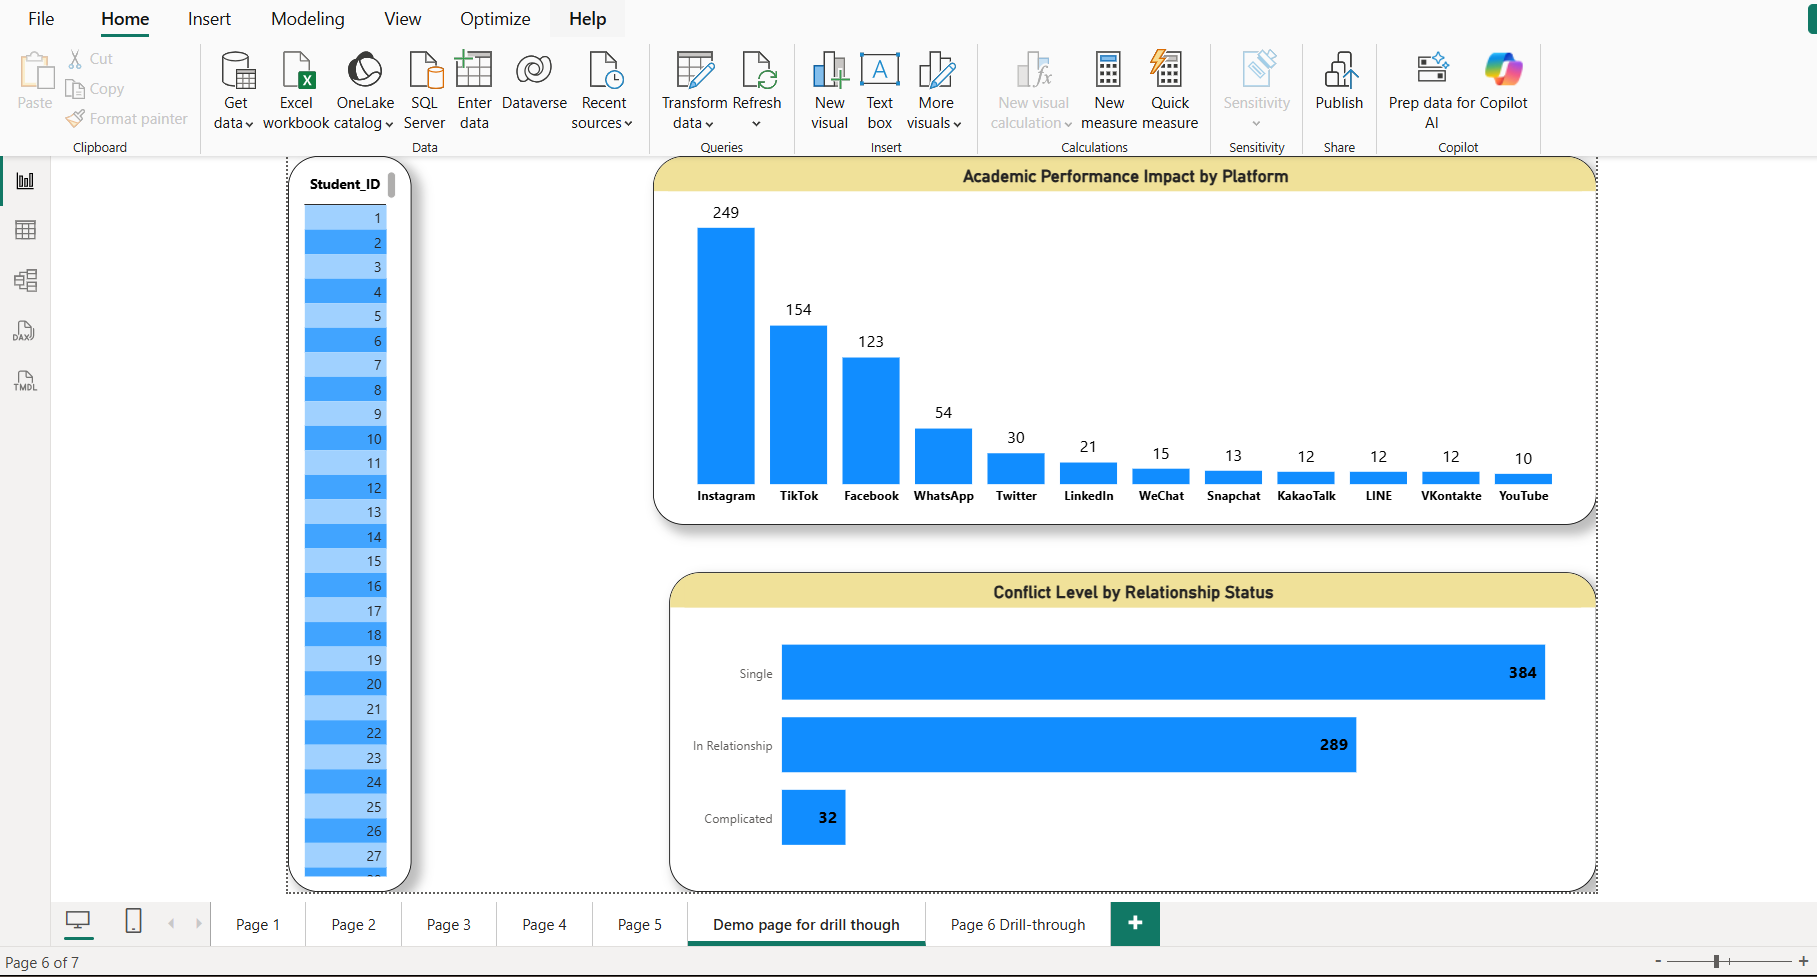

The page's visual inventory and layout, read from the dashboard file:
{"tool":"powerbi","page":{"name":"Demo page for drill though","canvas":[1280,720],"ordinal":5},"visuals":[{"type":"tableEx","fields":{"Values":["Student Details.Student_ID"]},"box":[0,0,121.1,720.2],"z":0},{"type":"barChart","title":"Conflict Level by Relationship Status","fields":{"Y":["CountNonNull(Student Details.02 Conflict Level)"],"Category":["Student Details.Relationship_Status"]},"box":[373.4,407.5,907.1,312.9],"z":1000},{"type":"columnChart","title":"Academic Performance Impact by Platform","fields":{"Category":["Platform Details.Most_Used_Platform"],"Y":["CountNonNull(Platform Details.Affects_Academic_Performance)"]},"box":[357,0,923.5,360.8],"z":2000}]}

Visuals, with their boxes on the page's 1280x720 design canvas (x1, y1, x2, y2). These are canvas units, not pixel positions in the 1817x977 screenshot, which may show the page scaled, cropped or inside an application window:
tableEx - Student Details.Student_ID: l=0, t=0, r=121, b=720
"Conflict Level by Relationship Status" barChart: l=373, t=408, r=1280, b=720
"Academic Performance Impact by Platform" columnChart: l=357, t=0, r=1280, b=361
